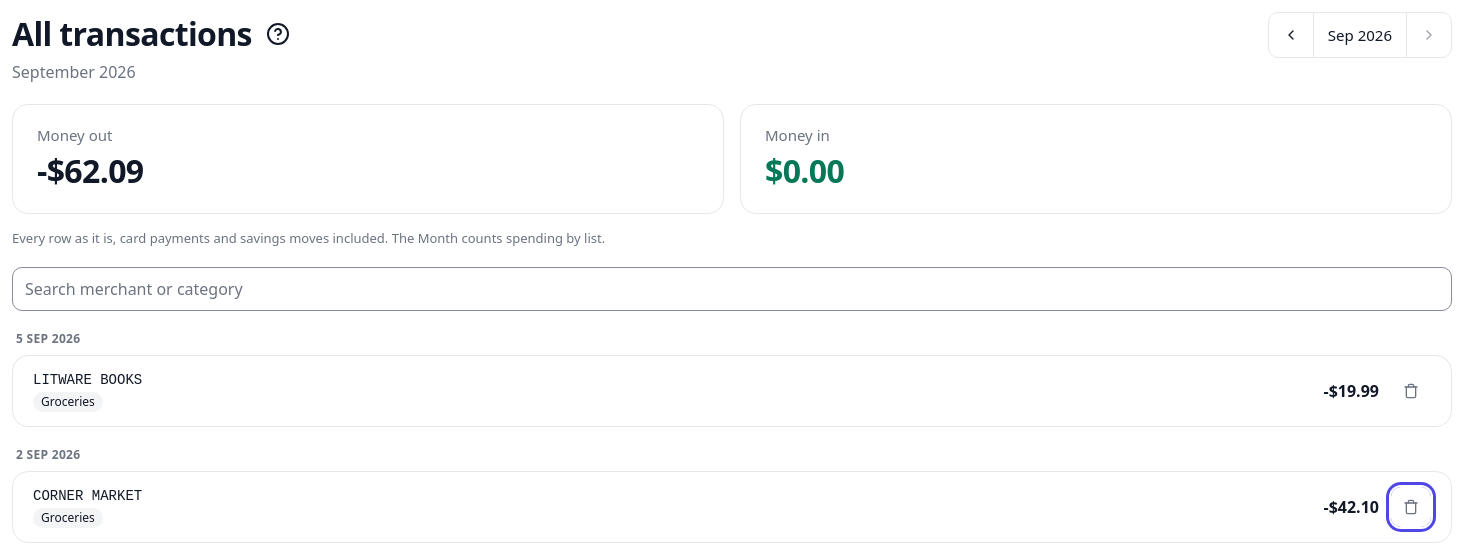
Test: LedgerScreen, removing a transaction › moves focus to Remove, then to the next row
The image size is (1464, 560).
Expected: the text "CORNER MARKET" is shown, [33, 488, 142, 504]
Click the button named "Remove this transaction" in the row of "CORNER MARKET": click(1411, 507) [1391, 487, 1431, 527]
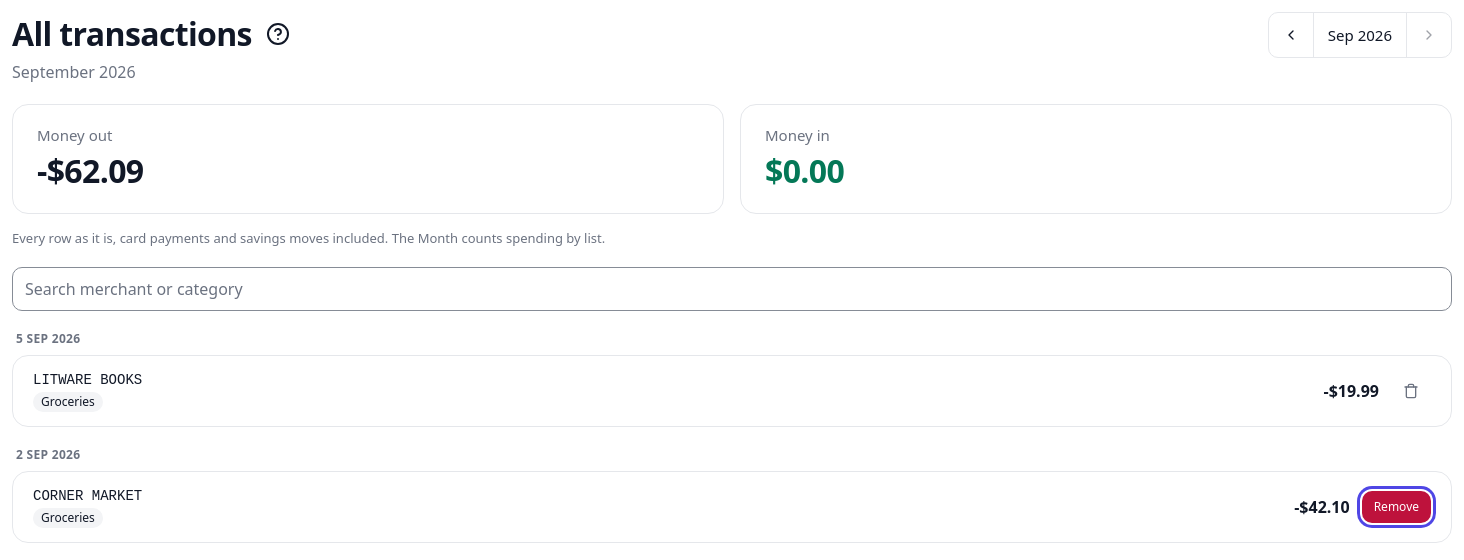
Click the button "Remove": click(1396, 507) [1362, 491, 1431, 523]
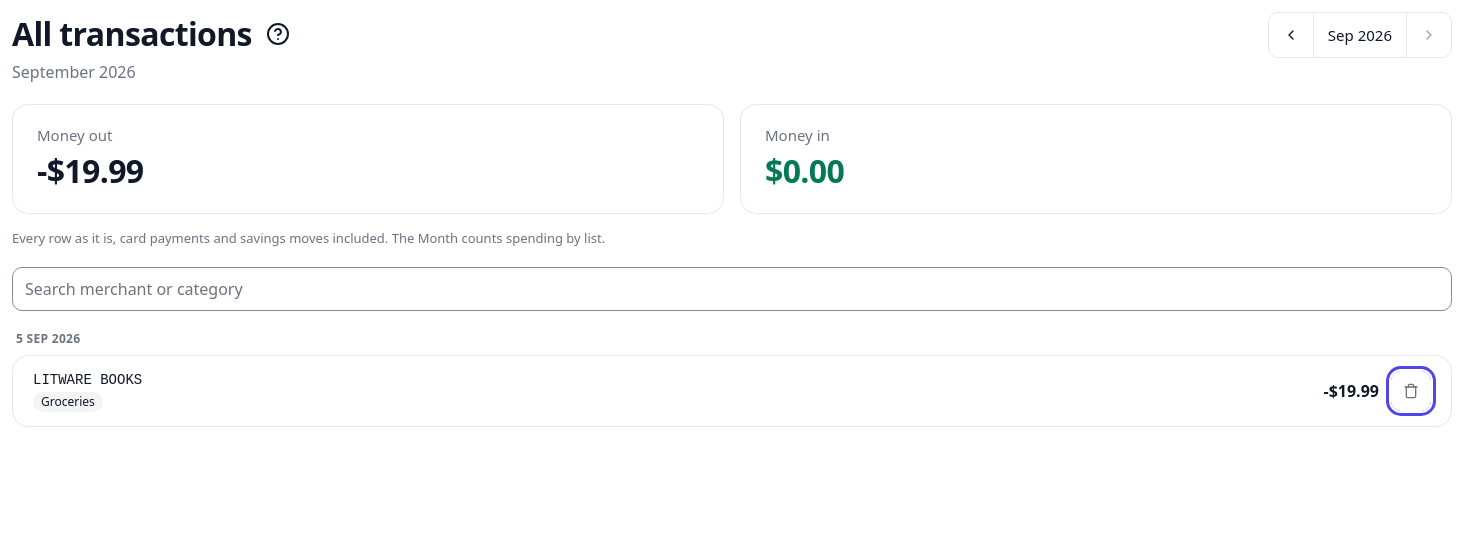
Expected: the text "CORNER MARKET" is gone
